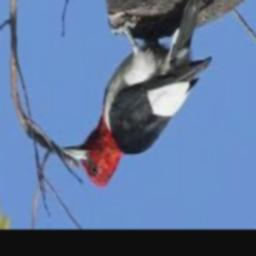Woodpecker: (62, 0, 211, 188)
